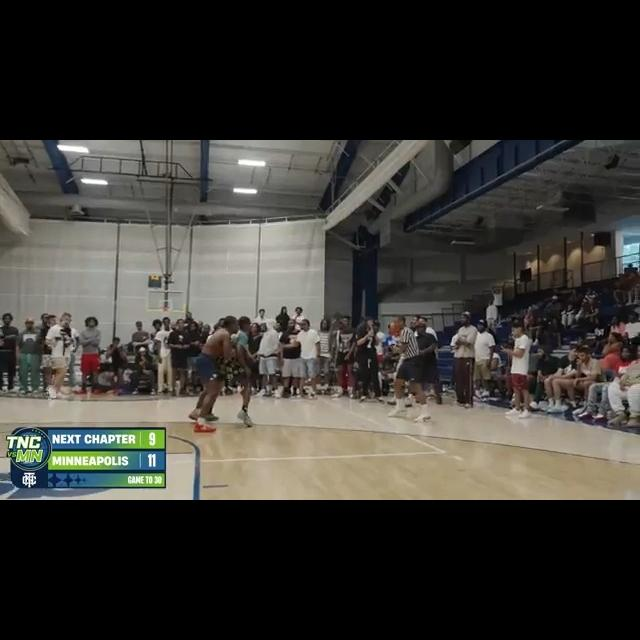basketball: (388, 322, 400, 335)
